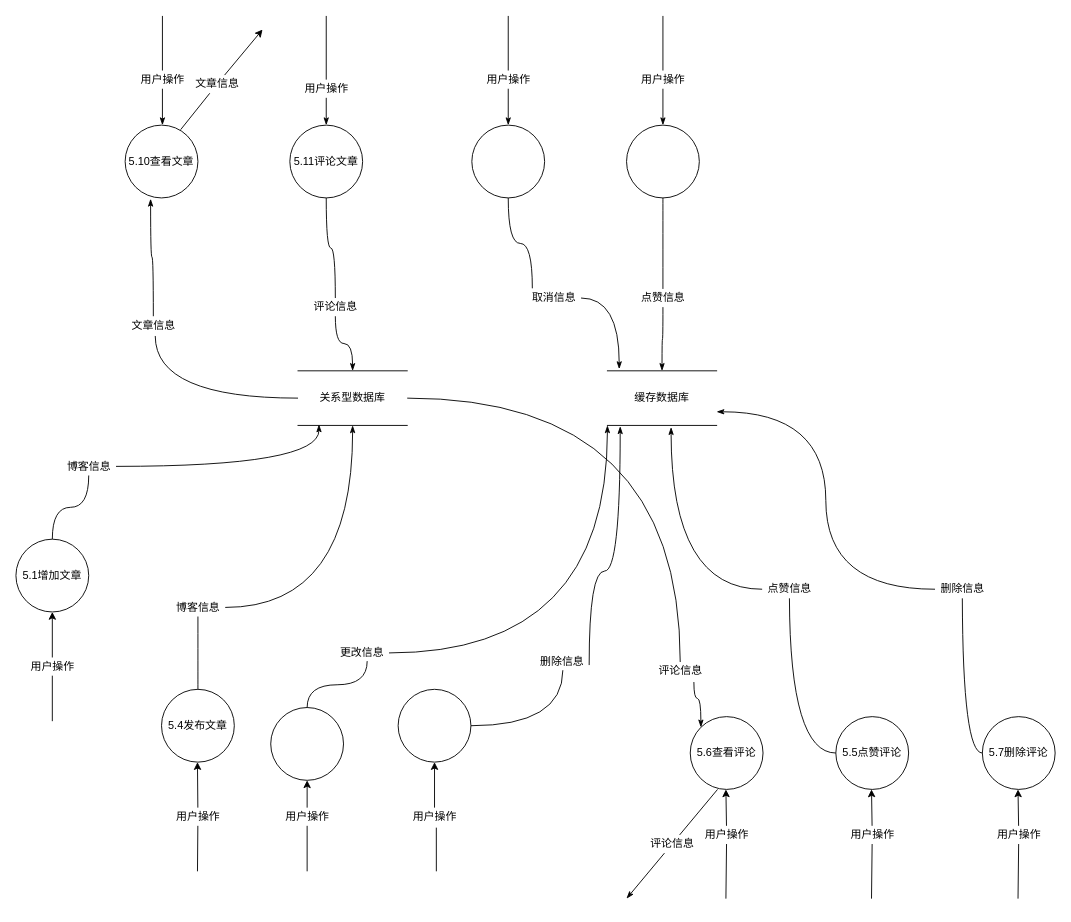
Image size: 1071x922. Some labels were removed from this diagram. Each missing label, with the box of its shape:
5.2删除文章: (397, 688, 471, 762)
5.3更改文章: (270, 707, 344, 780)
5.8点赞: (626, 124, 699, 198)
5.9点赞/取消收藏文章: (471, 124, 545, 198)
